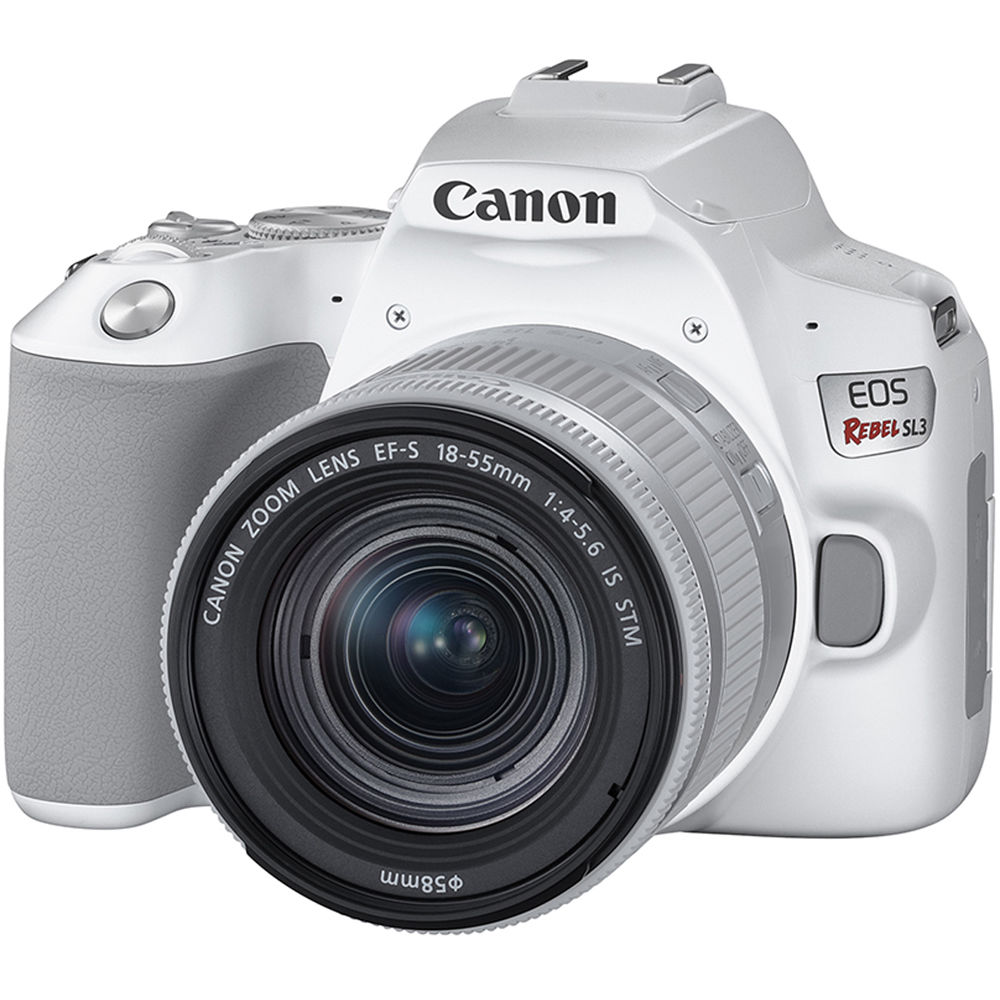kamera: (1, 1, 1000, 959)
